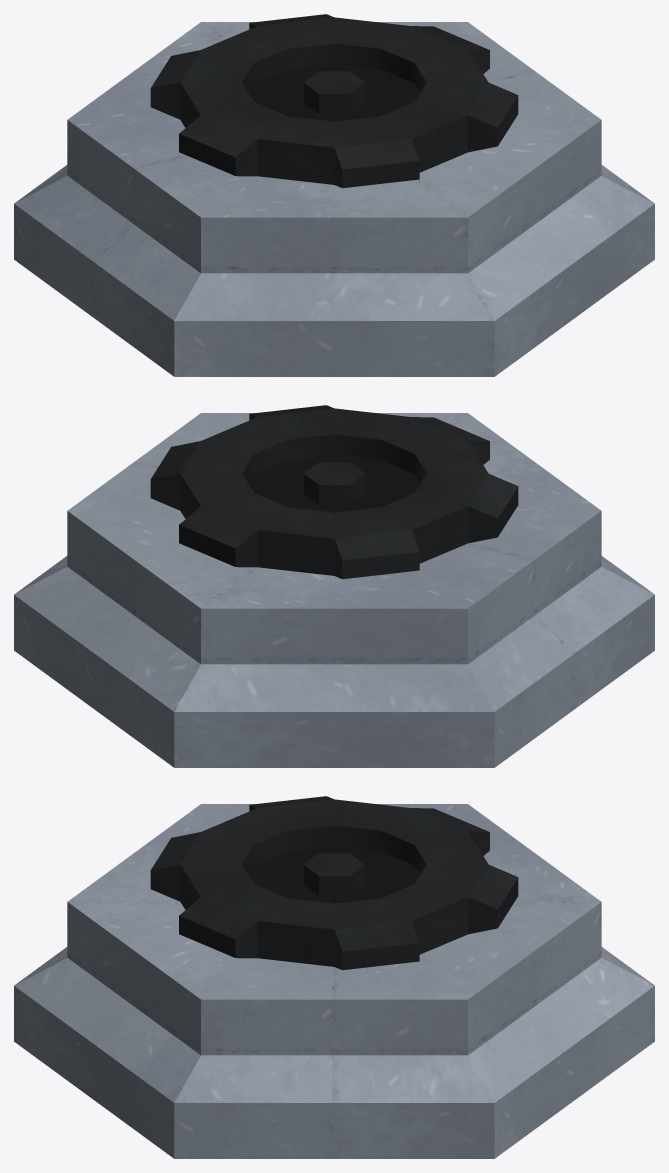
The model's file is TurretTop.fbx.
3 views of the same model, one above another, from view 1: azimuth 30°, elevation 25°; view 2: azimuth 150°, elevation 25°; view 3: azimuth 270°, elevation 25° (orthographic).
Visible parts, largest first — view 1: mergedBlocks; view 2: mergedBlocks; view 3: mergedBlocks.
Boxes of the visible parts, bbox=[...] form: mergedBlocks: bbox=[14, 14, 654, 376]; mergedBlocks: bbox=[14, 405, 654, 767]; mergedBlocks: bbox=[14, 796, 654, 1158].
Size of the model in its own units: 2.7 by 0.95 by 3.12.
